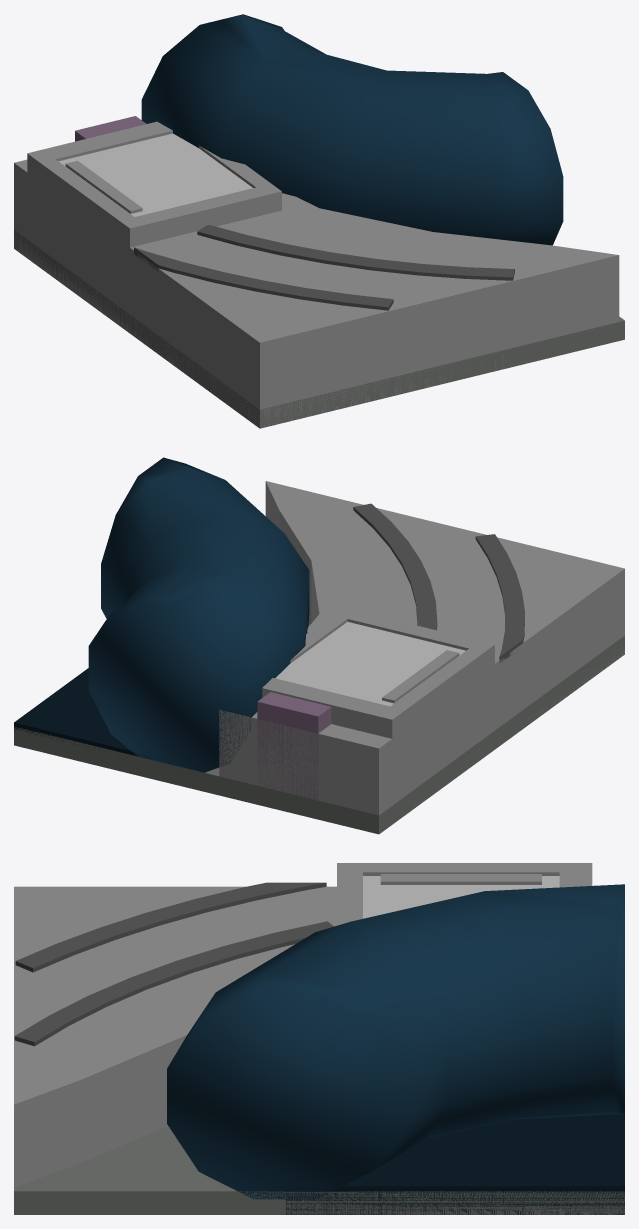
Rendered from newshb-117.glb.
The picture shows the model from 3 angles, top to bottom: view 1: azimuth 30°, elevation 25°; view 2: azimuth 150°, elevation 25°; view 3: azimuth 270°, elevation 25°; orthographic projection. The views are drawn at different scales.
Visible parts, largest first — view 1: newshb-117, newshb-117-hatch; view 2: newshb-117, newshb-117-hatch; view 3: newshb-117, newshb-117-hatch.
Part boxes in pixels (<box>): newshb-117: <box>14,14,624,428</box>; newshb-117-hatch: <box>59,133,252,216</box>; newshb-117: <box>14,457,624,834</box>; newshb-117-hatch: <box>275,621,465,706</box>; newshb-117: <box>14,863,624,1214</box>; newshb-117-hatch: <box>363,874,559,918</box>.
Bounding box in the file's own units: 2 × 0.9347 × 2.33.
